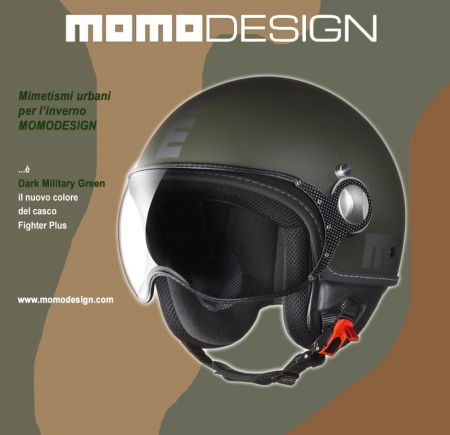helmet: (131, 54, 415, 198)
